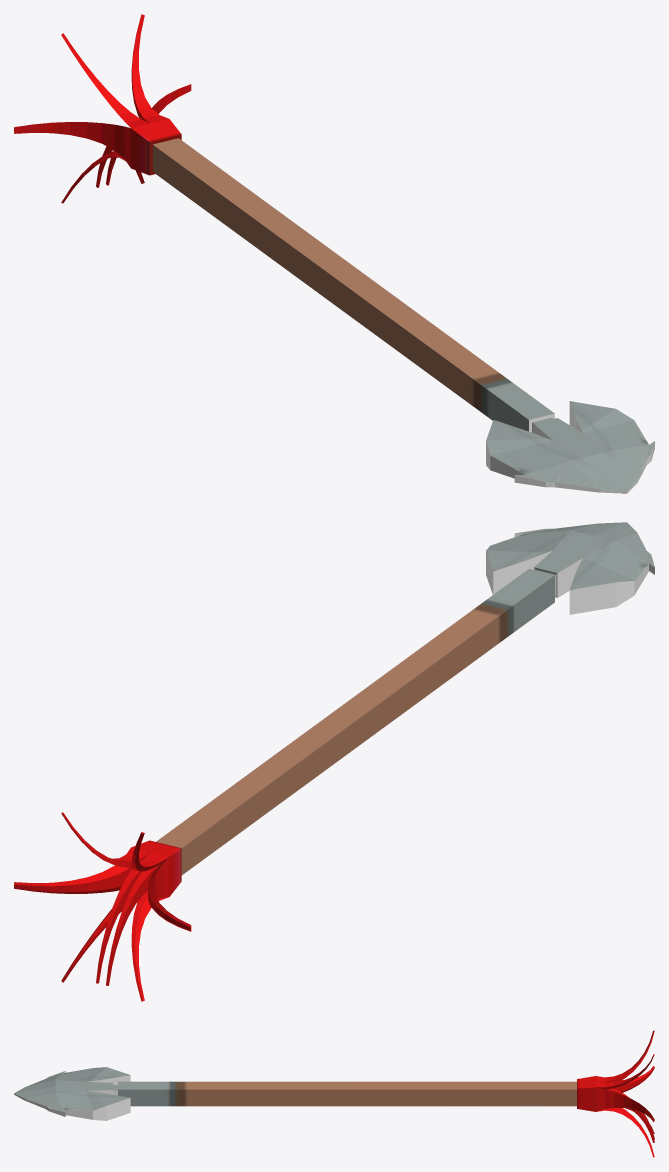
Rendered from arrow.fbx.
The picture shows the model from 3 angles, top to bottom: view 1: azimuth 30°, elevation 25°; view 2: azimuth 150°, elevation 25°; view 3: azimuth 270°, elevation 25°; orthographic projection. The views are drawn at different scales.
Parts seen in each view (by area): view 1: Cube; view 2: Cube; view 3: Cube.
Boxes of the visible parts, x1,y1,x2,y2 form: Cube: [14, 14, 654, 493]; Cube: [14, 522, 654, 1001]; Cube: [14, 1030, 654, 1157].
Size of the model in its own units: 13.57 by 12.45 by 69.82.
1 material, 1 textured.
